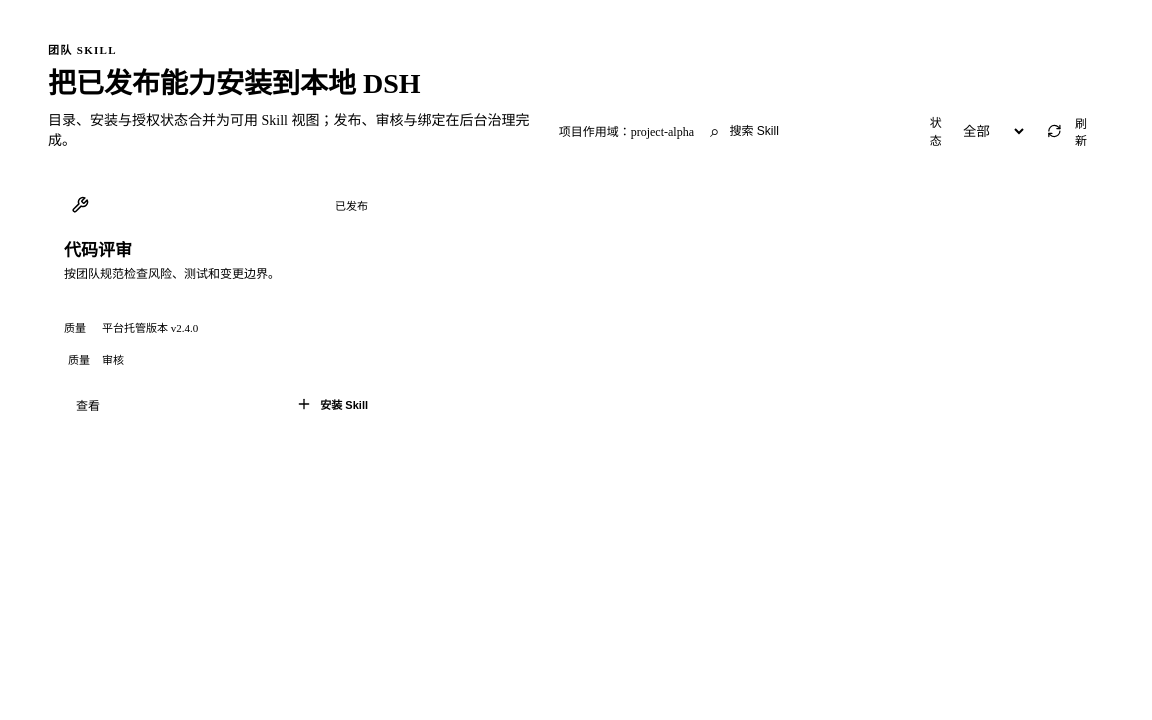
Scenario: TeamSkillsView › disables project scope when there is no workspace and surfaces not-ready state
Expected: the heading "代码评审" is shown, [64,241,132,260]
Click the button "安装 Skill" at (332, 404), box [288,388,376,420]
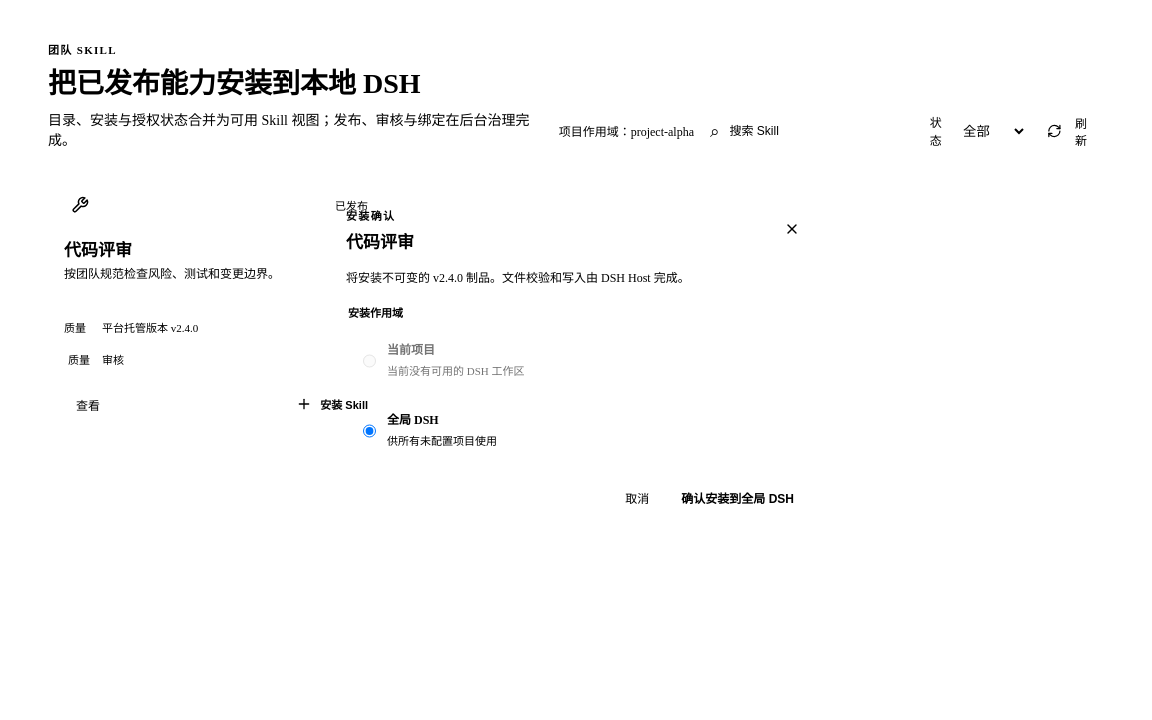
Now the text "当前没有可用的 DSH 工作区" is shown, box [387,362,524,378]
